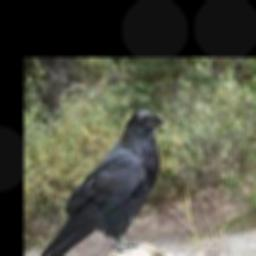Crow: (38, 108, 166, 256)
